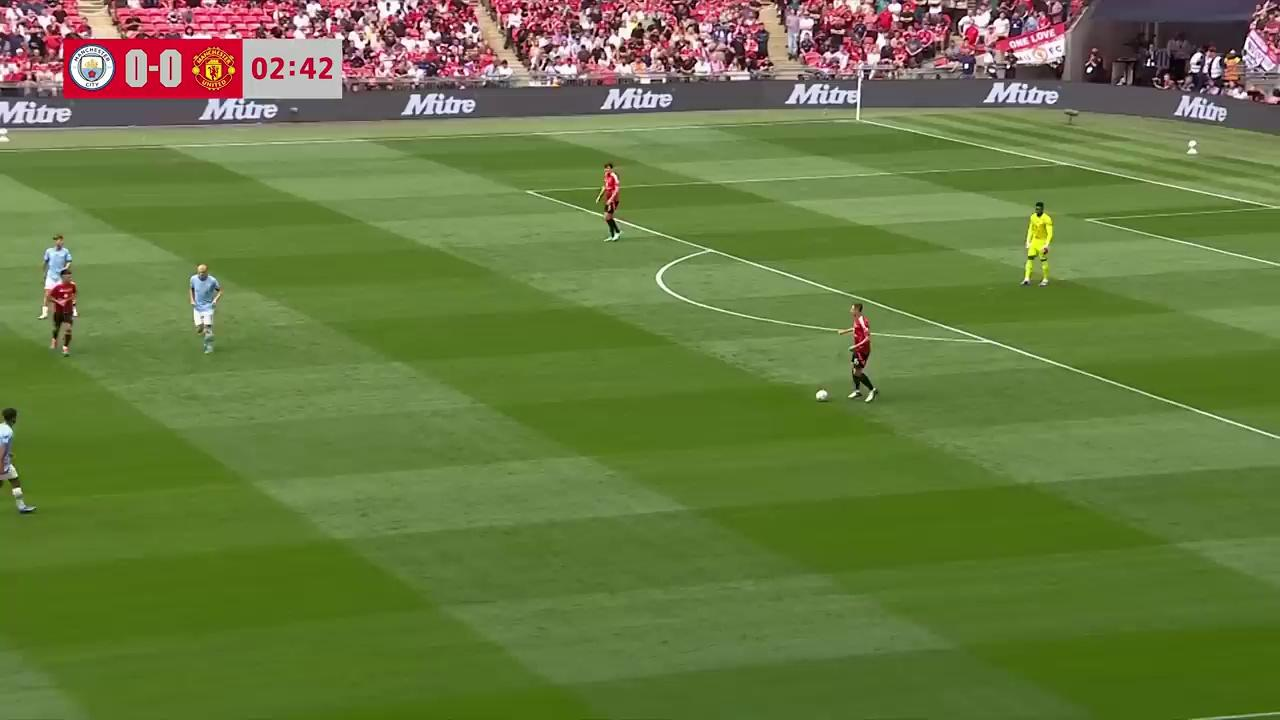ball: (813, 386, 830, 404)
player: (0, 406, 35, 514), (840, 303, 877, 401), (188, 263, 221, 353), (45, 268, 77, 355), (40, 233, 74, 312), (1022, 200, 1052, 287), (596, 159, 621, 241)
